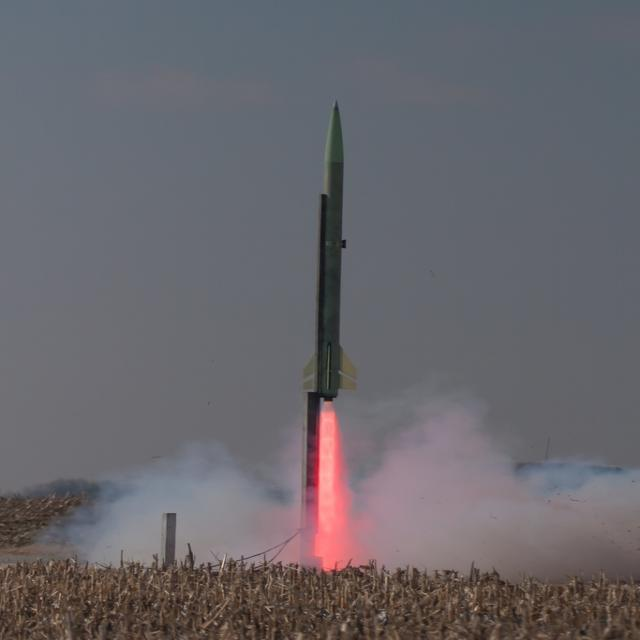missile: (300, 98, 354, 412)
